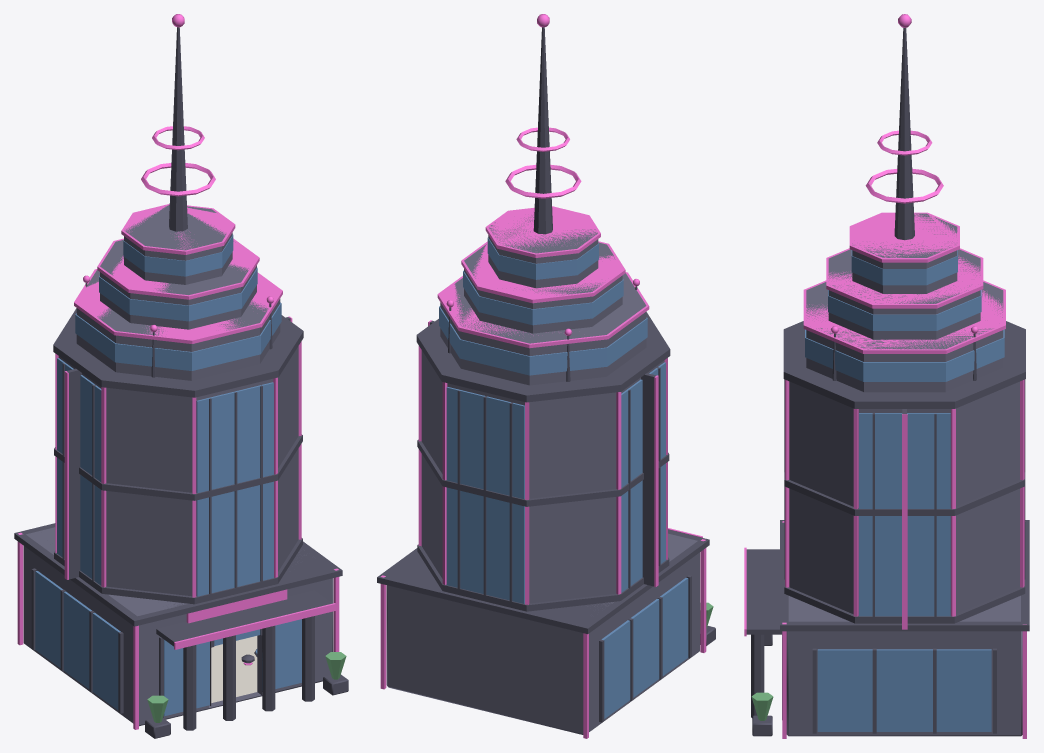
File: VerticeTorre.fbx
The picture shows the model from 3 angles, left to right: view 1: azimuth 30°, elevation 25°; view 2: azimuth 150°, elevation 25°; view 3: azimuth 270°, elevation 25°; orthographic projection. The views are drawn at different scales.
Visible parts, largest first — view 1: VerticeTorre_Medio_Cuerpo, VerticeTorre_Medio_Cristal, VerticeTorre_Base_Metal, VerticeTorre_Tope_Cuerpo, VerticeTorre_Base_Cristal, VerticeTorre_Medio_Metal, VerticeTorre_Base_Cuerpo, VerticeTorre_Tope_Luz, VerticeTorre_Tope_Cristal, VerticeTorre_Tope_Metal, VerticeTorre_Medio_Luz, VerticeTorre_Base_Luz (+2 smaller); view 2: VerticeTorre_Base_Cuerpo, VerticeTorre_Medio_Cuerpo, VerticeTorre_Medio_Cristal, VerticeTorre_Tope_Cuerpo, VerticeTorre_Tope_Luz, VerticeTorre_Medio_Metal, VerticeTorre_Tope_Cristal, VerticeTorre_Tope_Metal, VerticeTorre_Base_Metal, VerticeTorre_Base_Cristal, VerticeTorre_Medio_Luz, VerticeTorre_Base_Luz; view 3: VerticeTorre_Medio_Cuerpo, VerticeTorre_Medio_Cristal, VerticeTorre_Base_Cristal, VerticeTorre_Tope_Luz, VerticeTorre_Tope_Cuerpo, VerticeTorre_Base_Cuerpo, VerticeTorre_Base_Metal, VerticeTorre_Tope_Metal, VerticeTorre_Tope_Cristal, VerticeTorre_Medio_Metal, VerticeTorre_Medio_Luz, VerticeTorre_Base_Luz.
Part boxes in pixels (x1,y1,x2,y2): VerticeTorre_Medio_Cuerpo: (58, 346, 298, 596); VerticeTorre_Medio_Cristal: (57, 358, 273, 596); VerticeTorre_Base_Metal: (14, 523, 348, 738); VerticeTorre_Tope_Cuerpo: (76, 205, 280, 380); VerticeTorre_Base_Cristal: (35, 571, 301, 716); VerticeTorre_Medio_Metal: (54, 317, 302, 604); VerticeTorre_Base_Cuerpo: (23, 527, 333, 726); VerticeTorre_Tope_Luz: (74, 14, 282, 343); VerticeTorre_Tope_Cristal: (75, 234, 281, 370); VerticeTorre_Tope_Metal: (53, 27, 303, 397); VerticeTorre_Medio_Luz: (55, 316, 301, 597); VerticeTorre_Base_Luz: (17, 532, 339, 729); VerticeTorre_Base_Cuerpo: (386, 533, 699, 734); VerticeTorre_Medio_Cuerpo: (421, 350, 664, 603); VerticeTorre_Medio_Cristal: (446, 362, 665, 603); VerticeTorre_Tope_Cuerpo: (440, 215, 646, 385); VerticeTorre_Tope_Luz: (437, 14, 649, 348); VerticeTorre_Medio_Metal: (417, 320, 669, 611); VerticeTorre_Tope_Cristal: (439, 237, 647, 375); VerticeTorre_Tope_Metal: (416, 27, 670, 402); VerticeTorre_Base_Metal: (377, 529, 715, 722); VerticeTorre_Base_Cristal: (601, 578, 688, 718); VerticeTorre_Medio_Luz: (418, 320, 667, 604); VerticeTorre_Base_Luz: (380, 528, 706, 738); VerticeTorre_Medio_Cuerpo: (789, 381, 1019, 615); VerticeTorre_Medio_Cristal: (859, 413, 950, 616); VerticeTorre_Base_Cristal: (817, 649, 991, 731); VerticeTorre_Tope_Luz: (803, 14, 1005, 353); VerticeTorre_Tope_Cuerpo: (806, 213, 1003, 392); VerticeTorre_Base_Cuerpo: (786, 595, 1022, 736); VerticeTorre_Base_Metal: (746, 520, 1029, 736); VerticeTorre_Tope_Metal: (783, 27, 1025, 408); VerticeTorre_Tope_Cristal: (805, 250, 1004, 381); VerticeTorre_Medio_Metal: (784, 379, 1025, 623); VerticeTorre_Medio_Luz: (785, 379, 1024, 629); VerticeTorre_Base_Luz: (744, 521, 1026, 738).
Size of the model in its own units: 3415 by 9390 by 3610.
